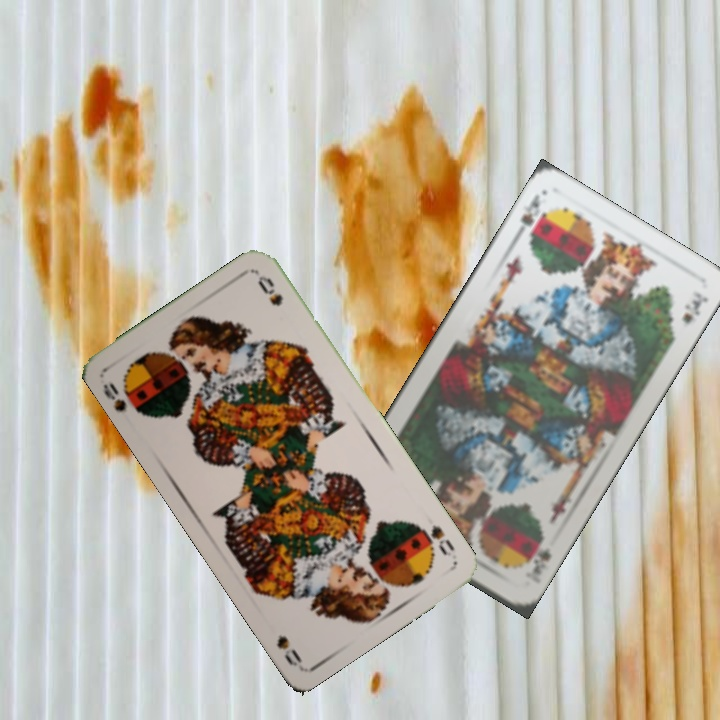SK: (510, 190, 548, 242), (522, 543, 554, 577)
SO: (98, 379, 148, 419), (413, 519, 458, 559)
